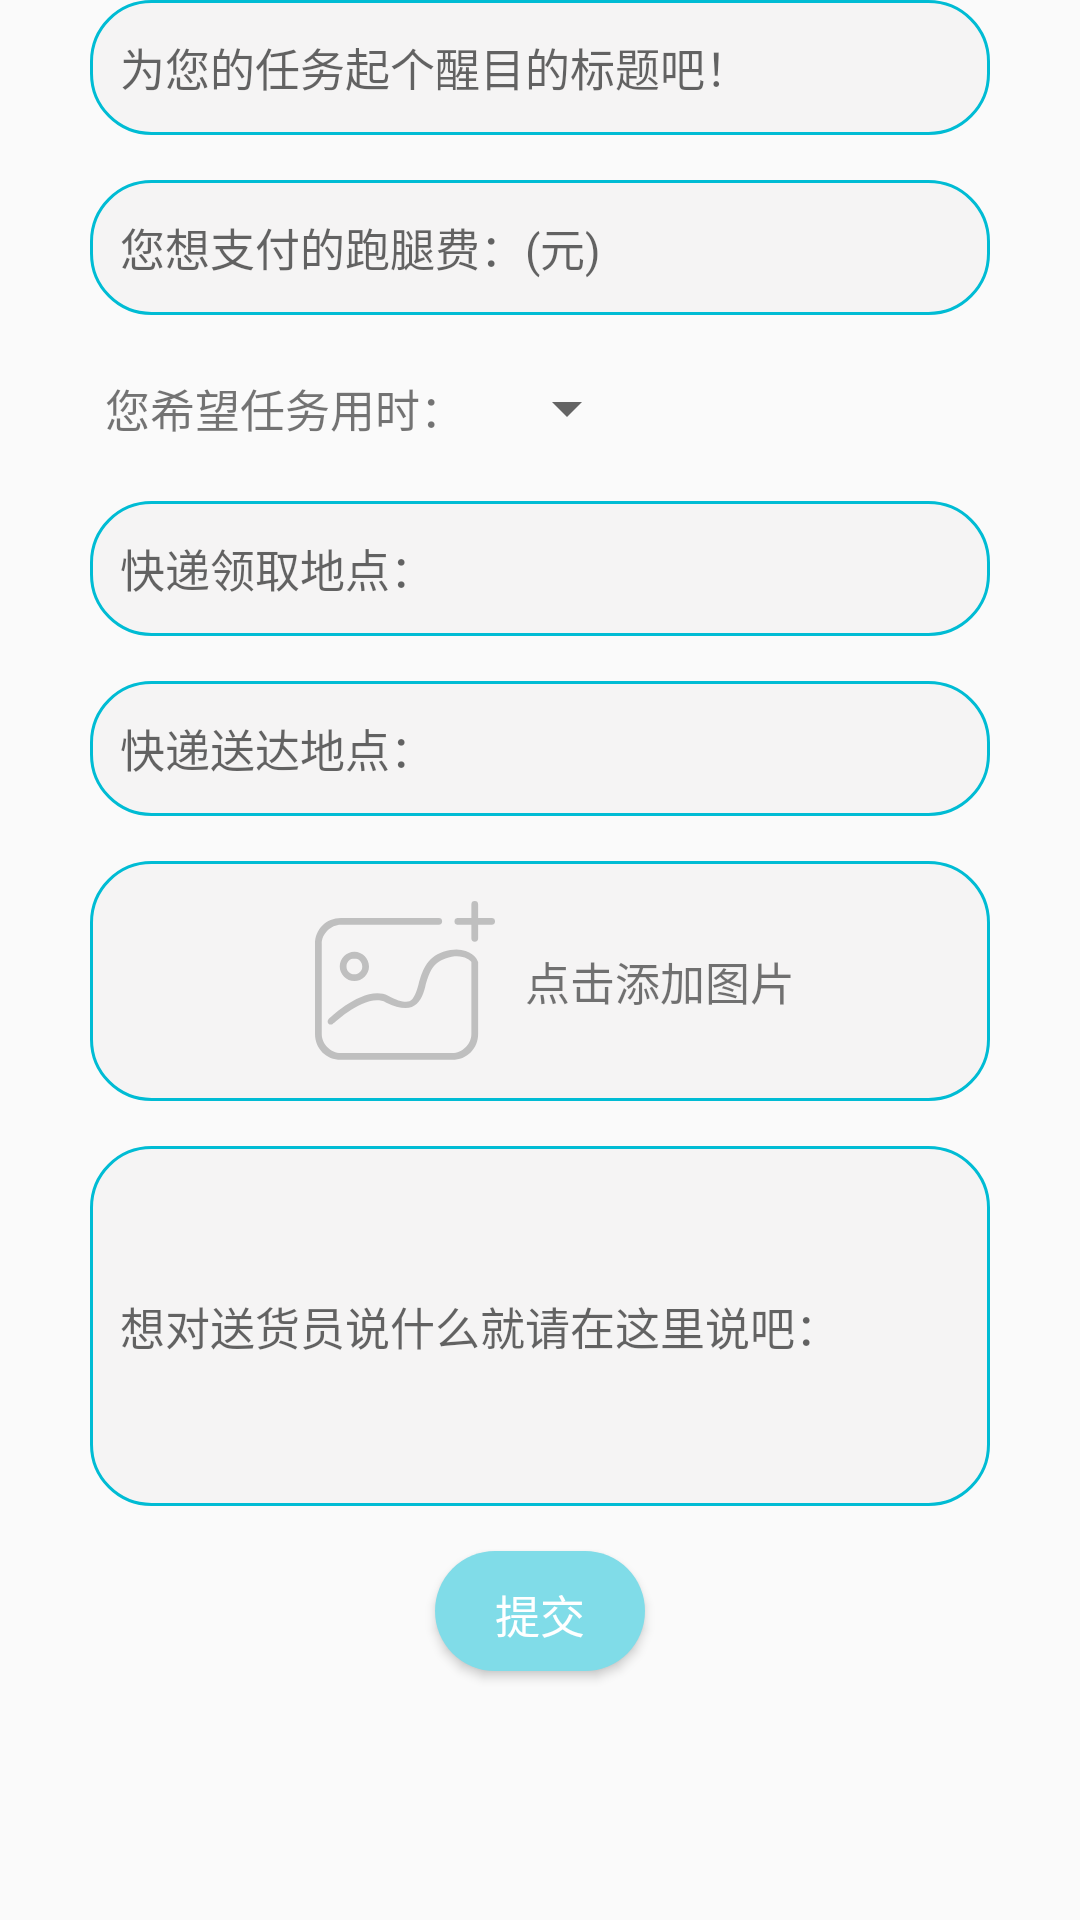

Where to tap for icons on this 1080w x 1920h app screen, as point (x, y):
add picture: point (405, 980)
